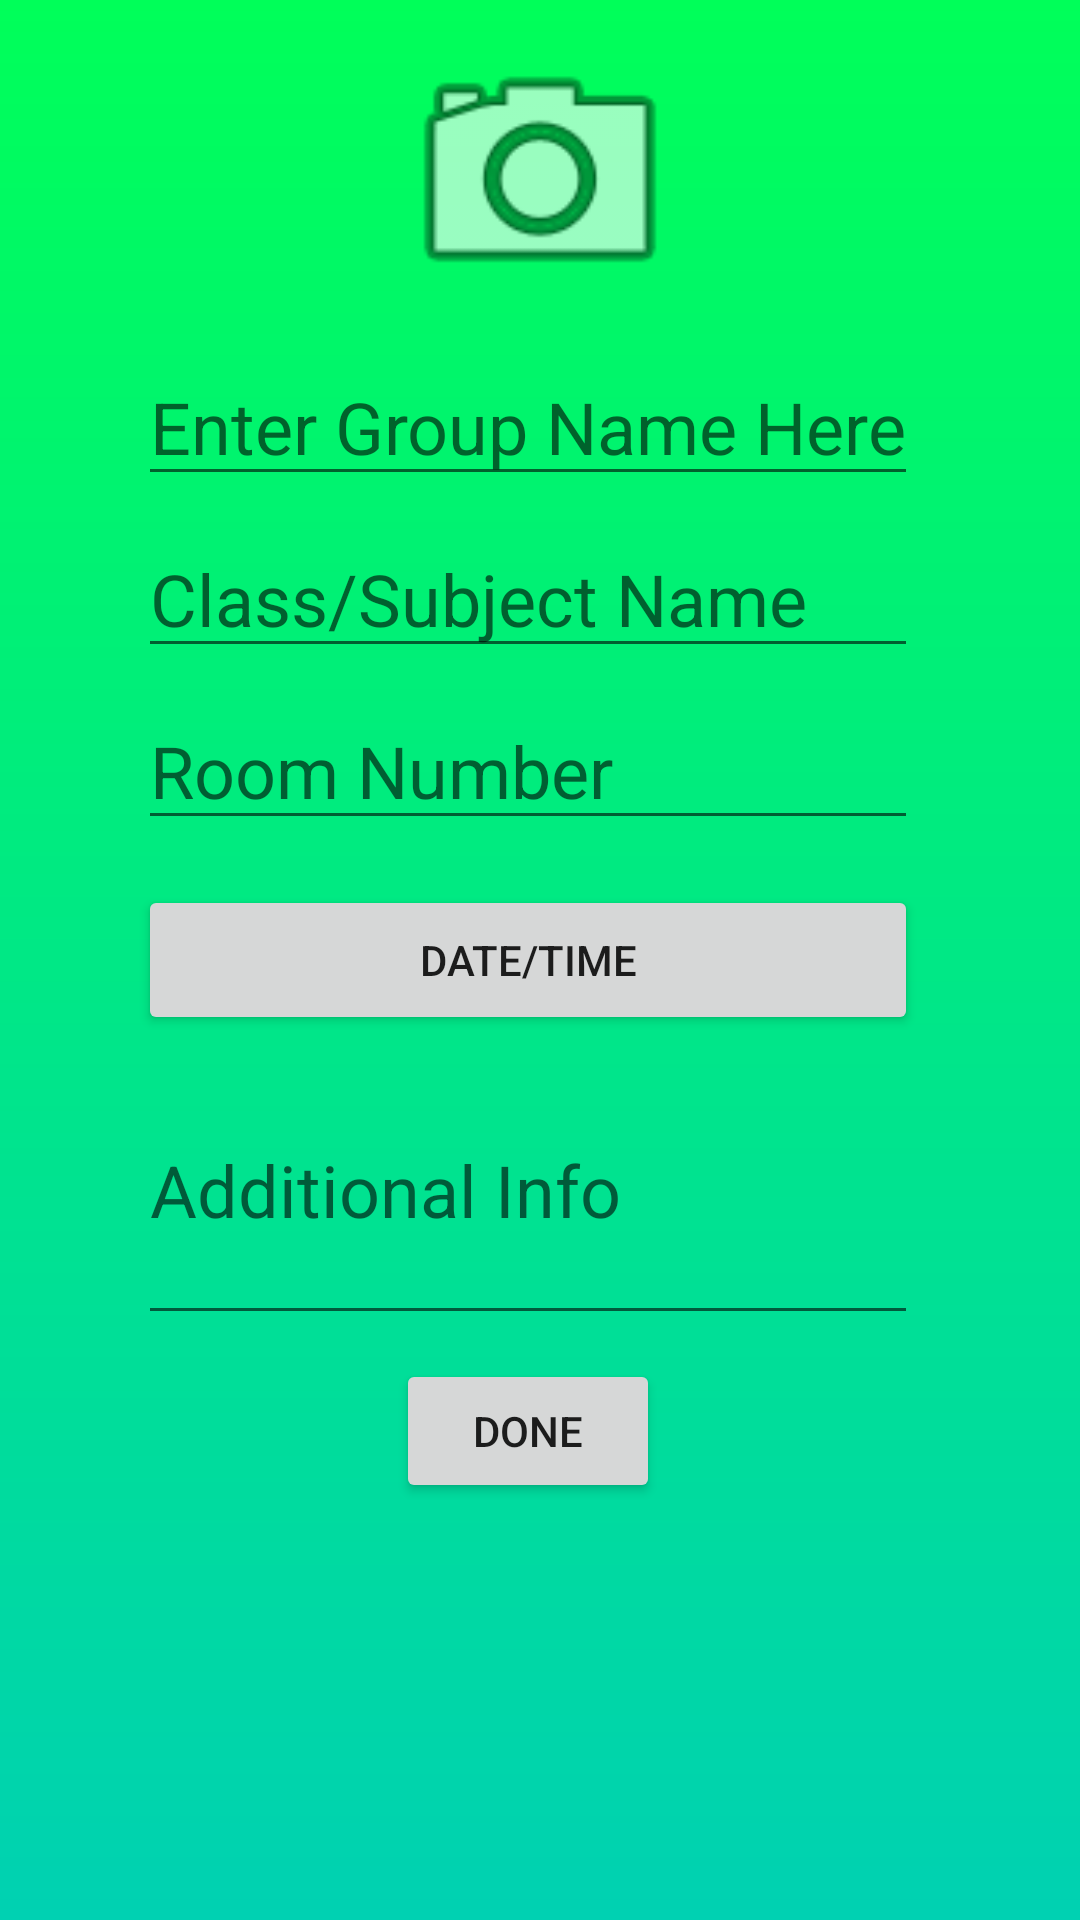

Icon bounding boxes for this 1080x1920 phone screenshot, format (x1, y1, x2, y2):
camera: (424, 77, 656, 262)
